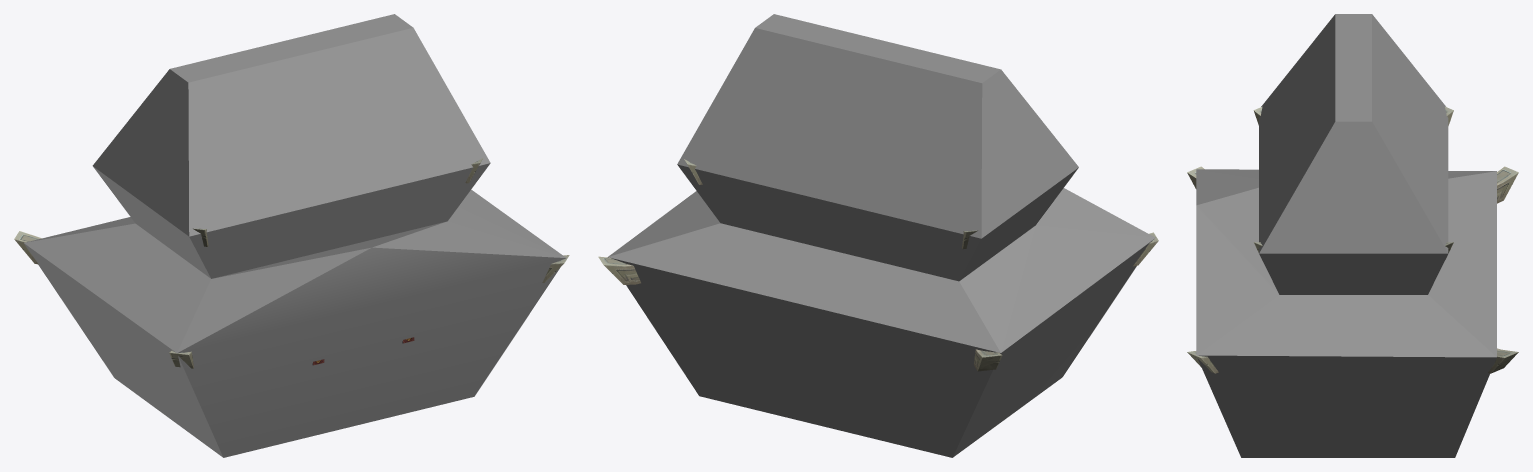
Rendered from fb_jjc_jz_02_b.FBX.
The picture shows the model from 3 angles, left to right: view 1: azimuth 30°, elevation 25°; view 2: azimuth 150°, elevation 25°; view 3: azimuth 270°, elevation 25°; orthographic projection. The views are drawn at different scales.
Visible parts, largest first — view 1: col_fb_jjc_jz_02_b, fb_jjc_jz_02_b; view 2: col_fb_jjc_jz_02_b, fb_jjc_jz_02_b; view 3: col_fb_jjc_jz_02_b, fb_jjc_jz_02_b.
Boxes of the visible parts, left/top/right/bottom form: col_fb_jjc_jz_02_b: left=24, top=14, right=566, bottom=457; fb_jjc_jz_02_b: left=14, top=158, right=569, bottom=368; col_fb_jjc_jz_02_b: left=607, top=14, right=1155, bottom=457; fb_jjc_jz_02_b: left=598, top=159, right=1158, bottom=371; col_fb_jjc_jz_02_b: left=1196, top=14, right=1496, bottom=457; fb_jjc_jz_02_b: left=1187, top=106, right=1518, bottom=373.
Bounding box in the file's own units: 1226 × 987 × 898.
